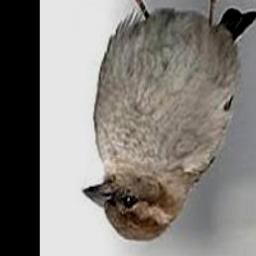Sparrow: (82, 0, 256, 243)
